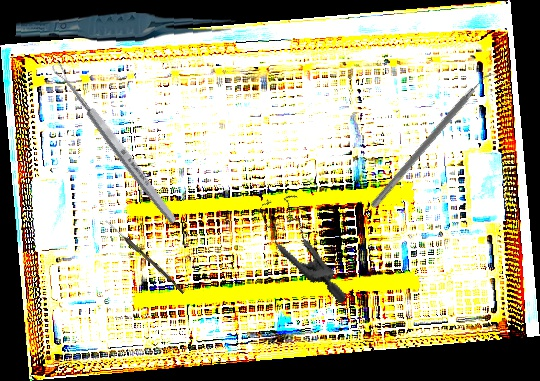Spatula Surgical: (369, 64, 499, 215)
Speculum: (238, 185, 375, 304)
Surgical Spoon: (49, 60, 180, 226), (103, 219, 187, 294)
Tissue Forceps: (15, 6, 237, 50)
